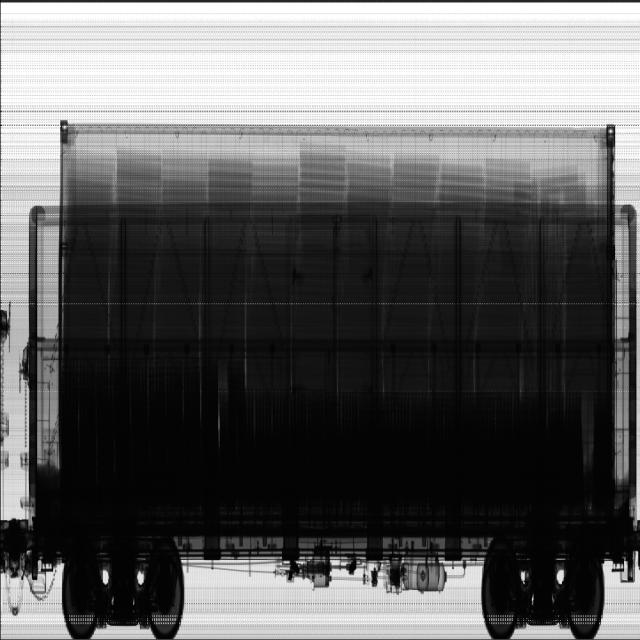fabrics: (477, 155, 599, 388)
